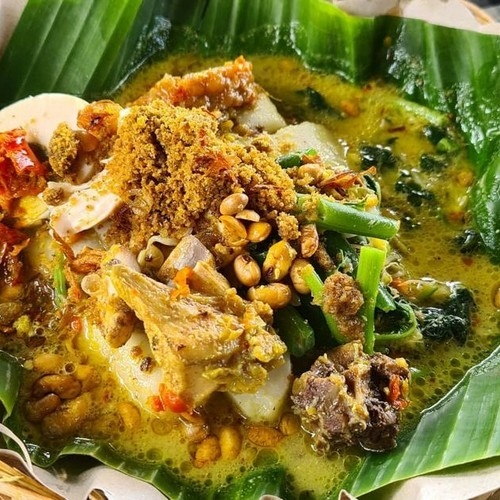tipat blayag: (6, 83, 460, 472)
